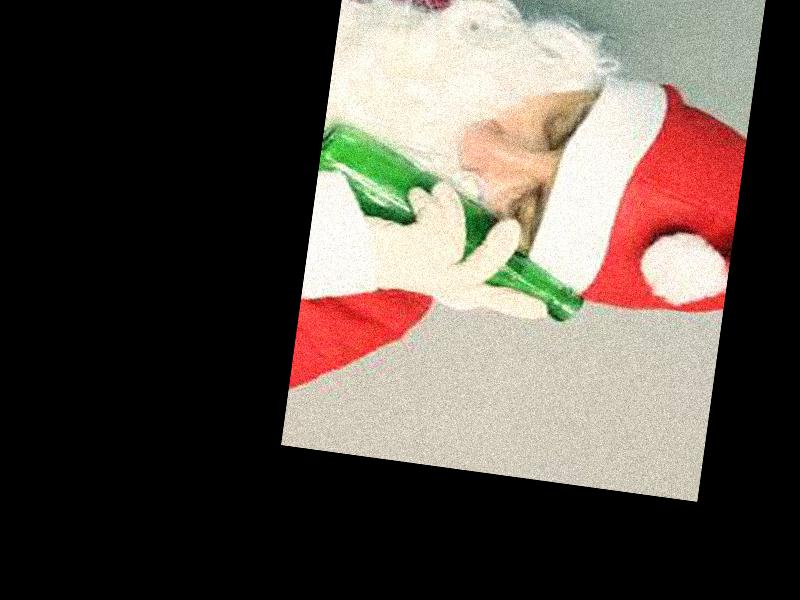Beer: (302, 125, 599, 325)
